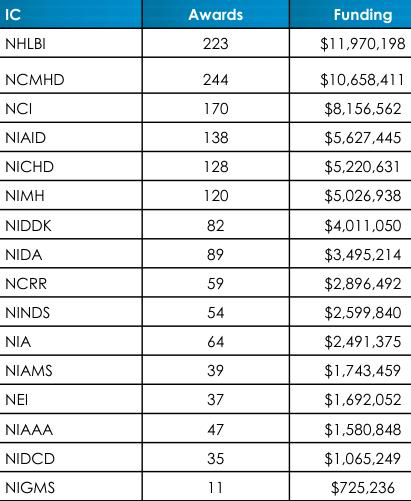table: (4, 3, 404, 495)
table column: (125, 3, 280, 495), (280, 3, 404, 495), (4, 3, 125, 495)
table column header: (4, 3, 404, 27)
table row: (4, 59, 404, 92), (4, 27, 404, 59), (4, 179, 404, 209), (4, 412, 404, 442), (4, 92, 404, 121), (4, 121, 404, 150), (4, 150, 404, 179), (4, 209, 404, 238), (4, 238, 404, 267), (4, 267, 404, 296), (4, 296, 404, 325), (4, 325, 404, 354), (4, 354, 404, 383), (4, 383, 404, 412), (4, 442, 404, 471), (4, 3, 404, 27), (4, 471, 404, 495)
